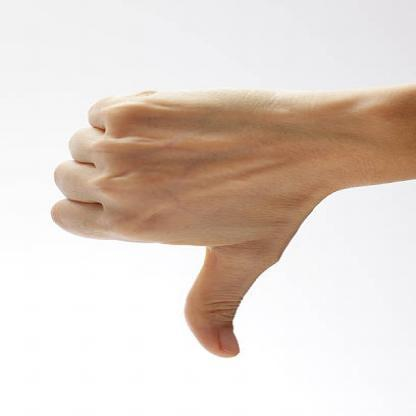thumb_down: (42, 86, 310, 362)
